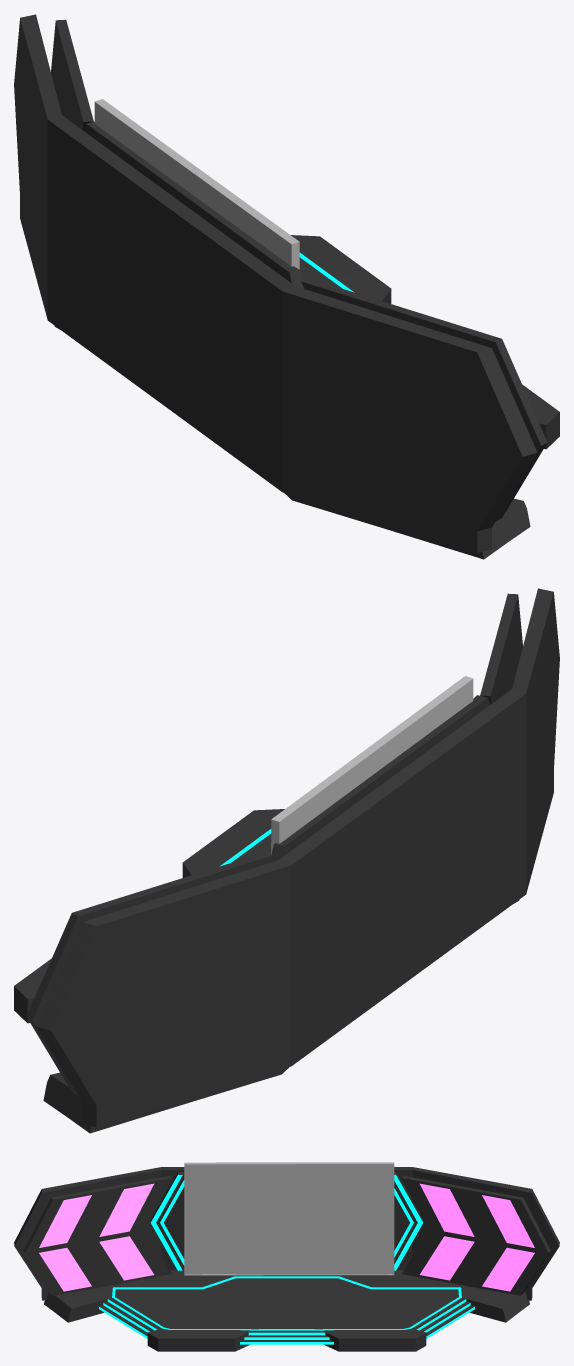
Rendered from stage.fbx.
3 renders of one model, top to bottom at view 1: azimuth 30°, elevation 25°; view 2: azimuth 150°, elevation 25°; view 3: azimuth 270°, elevation 25°, orthographic. The views are drawn at different scales.
Visible parts, largest first — view 1: Stage_Street, Screens; view 2: Stage_Street, Screens; view 3: Stage_Street, Screens.
Boxes of the visible parts, box(x1,y1,x2,y2) form: Stage_Street: box(14, 14, 559, 559); Screens: box(94, 99, 299, 269); Stage_Street: box(14, 588, 559, 1133); Screens: box(271, 676, 473, 854); Stage_Street: box(14, 1167, 559, 1351); Screens: box(184, 1162, 394, 1275).
Bounding box in the file's own units: 642 × 526 × 2059.
